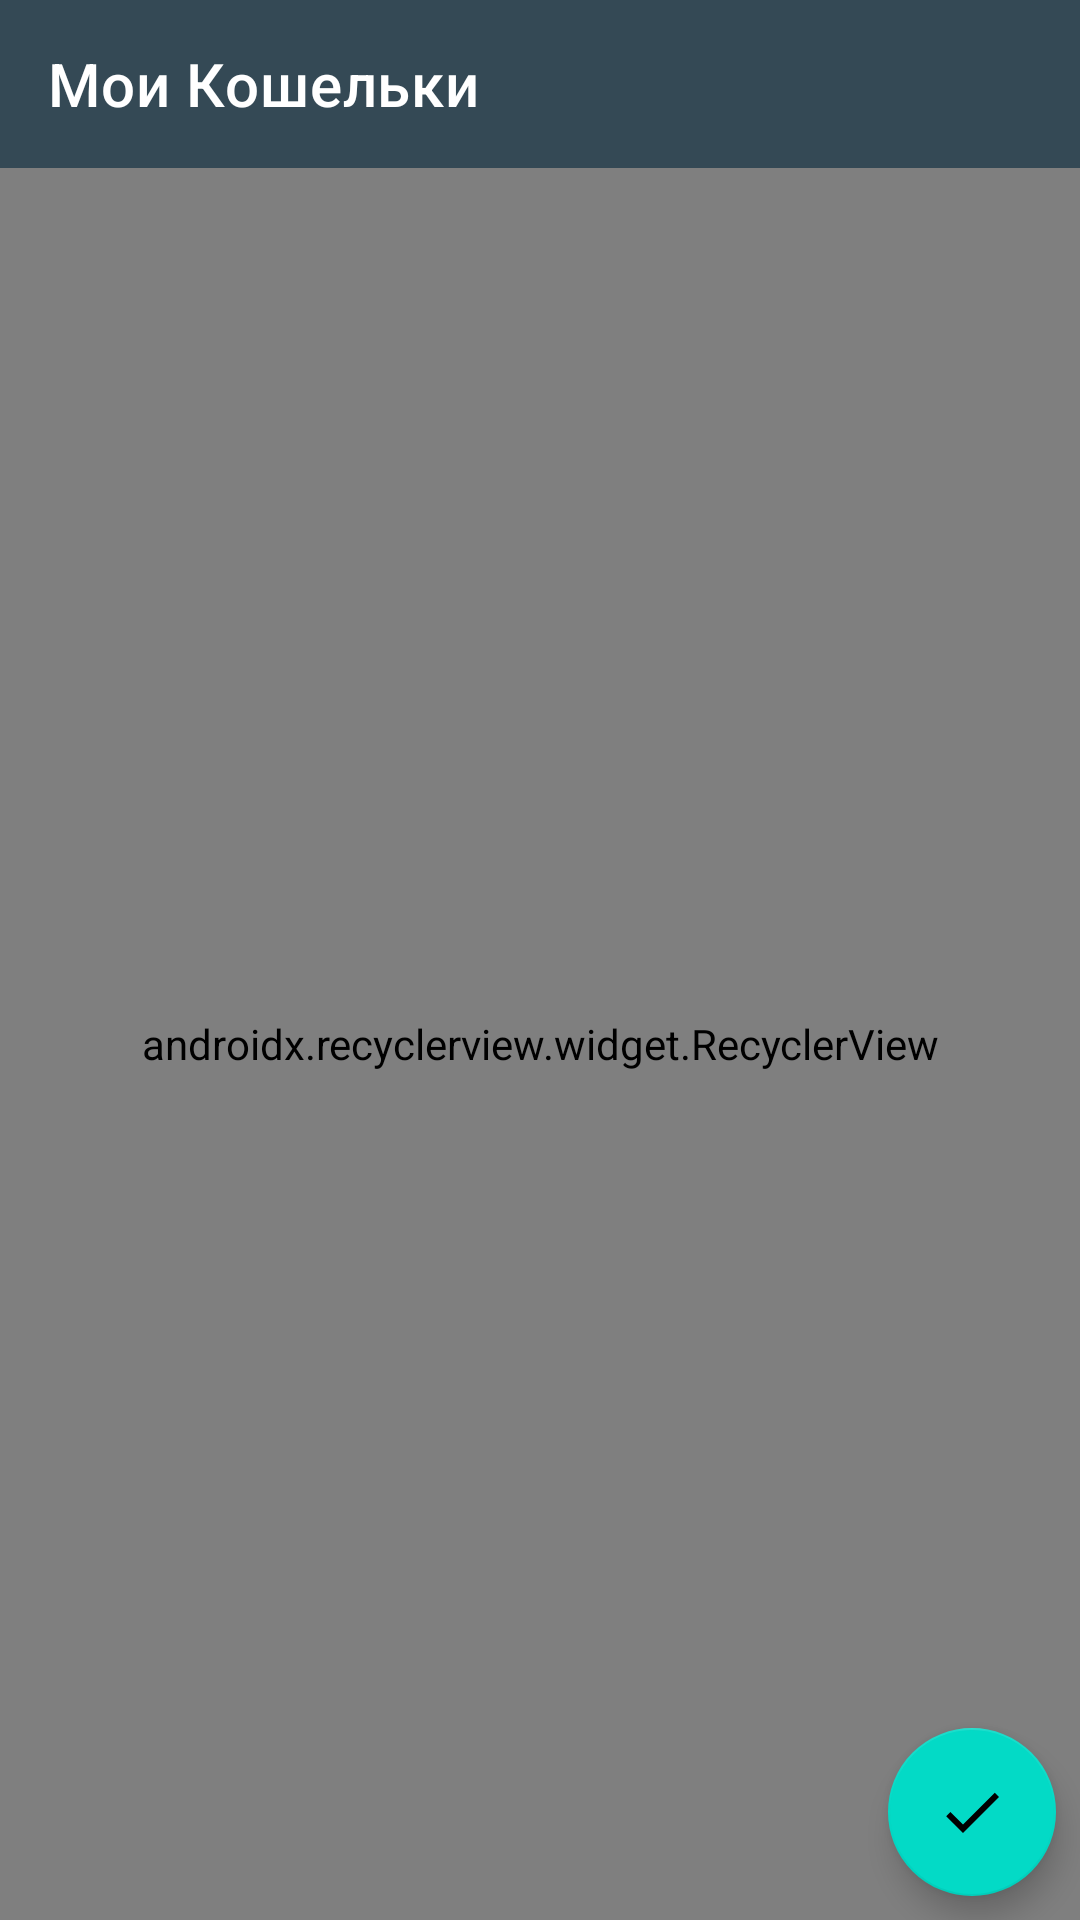

Icons on this 1080 x 1920 Android screen, each with its box as (x1, y1, x2, y2):
done: (888, 1728, 1056, 1896)
